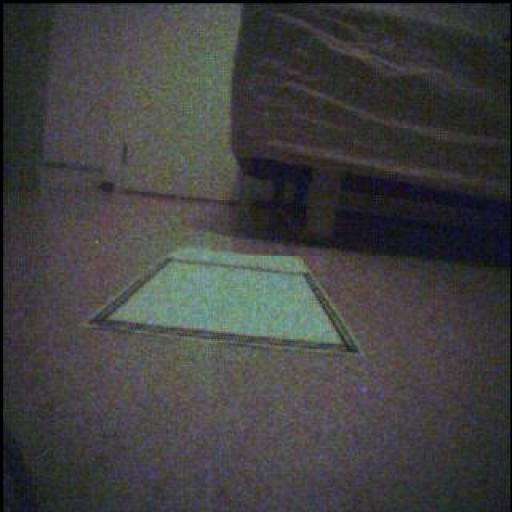pad: (91, 249, 361, 355)
